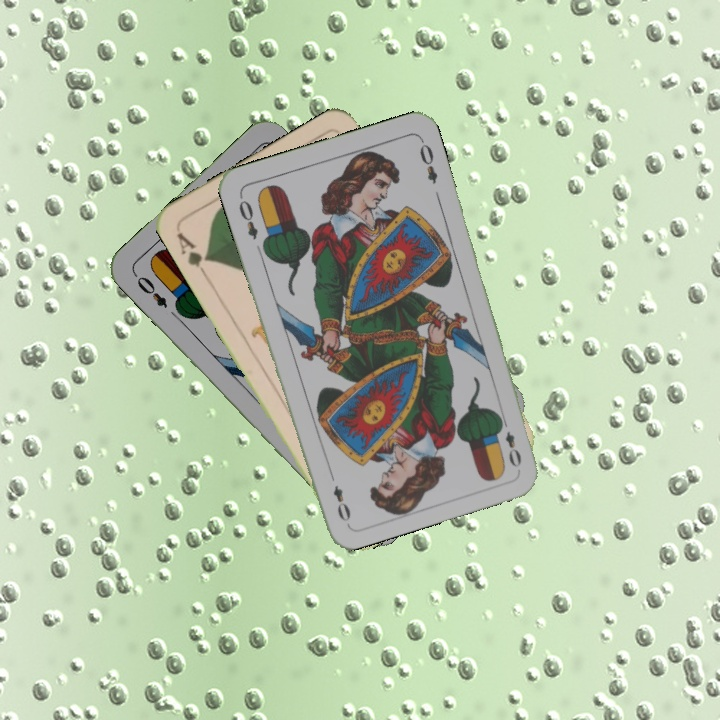EO: (129, 269, 170, 311), (495, 413, 524, 470), (234, 191, 261, 242)
GA: (172, 228, 214, 280)
